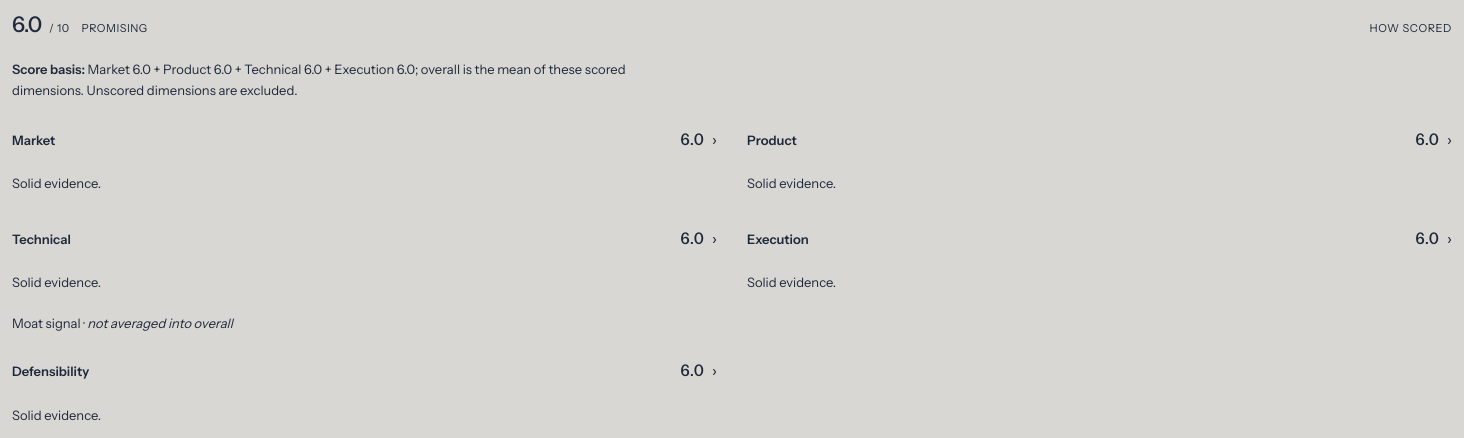
Test: AssessmentScorecard accessibility and robustness › explains historical scoring without exposing internal rubric identifiers
Step 1. Click the button with aria-label "How this was scored" → (1411, 29), box left=1370, top=12, right=1452, bottom=46
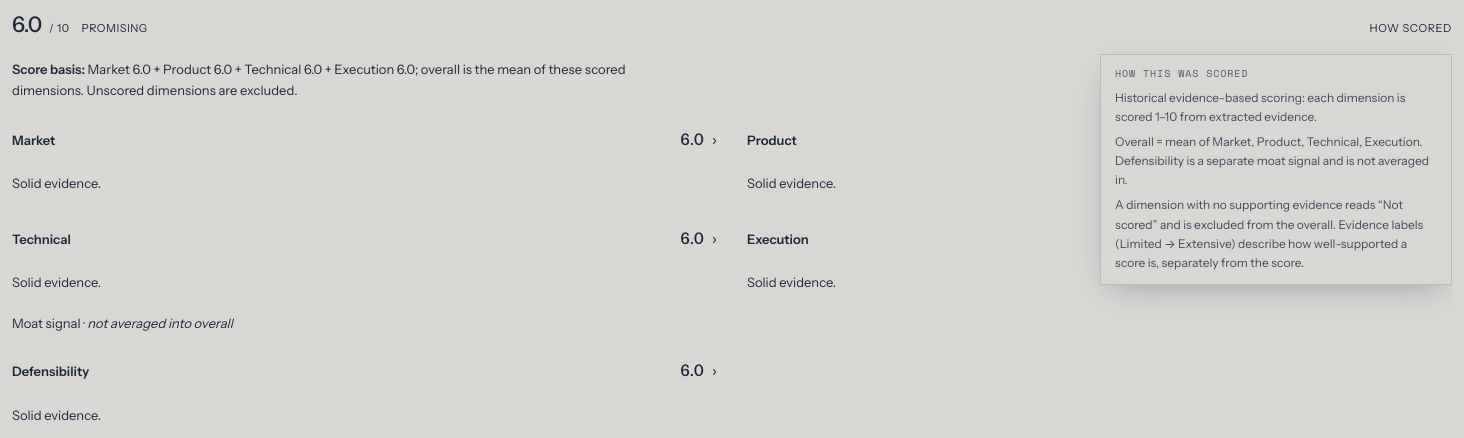
Check: the text "Historical evidence-based scoring" is shown, box left=1115, top=90, right=1405, bottom=124
